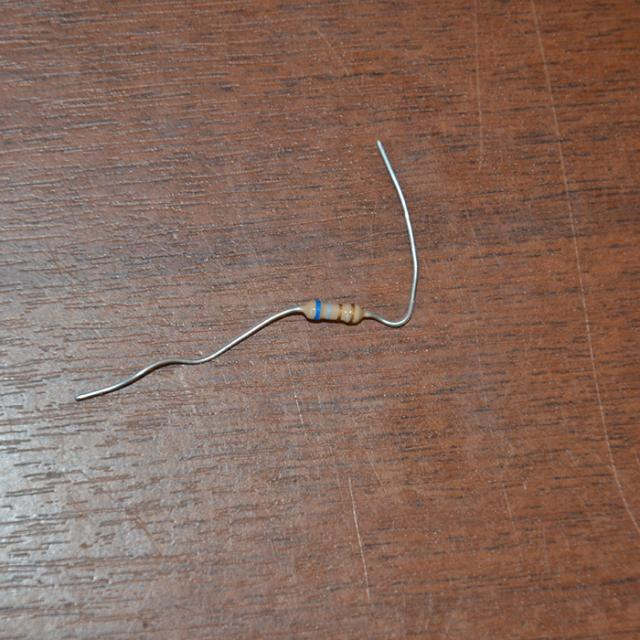blue: (314, 300, 320, 320)
gold: (349, 303, 356, 321), (337, 304, 343, 320)
grey: (325, 303, 331, 318)
resistor: (297, 286, 367, 340)
